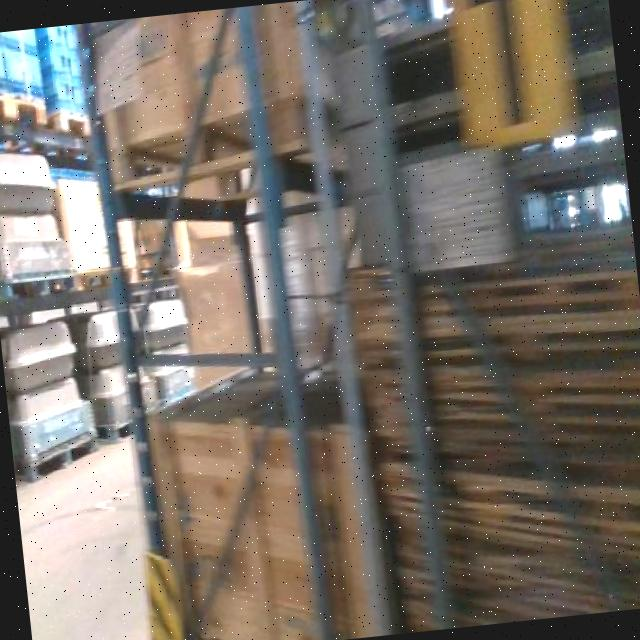pallet: (18, 417, 104, 496), (0, 262, 84, 304), (0, 82, 52, 131)
